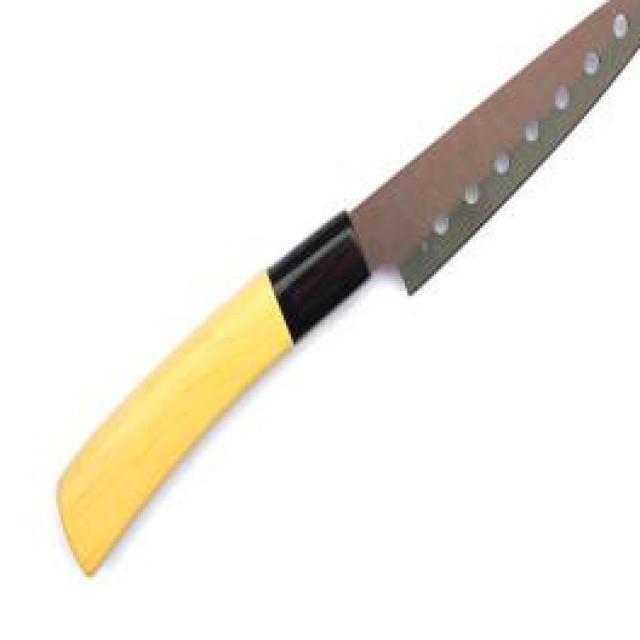knife: (58, 0, 640, 579)
